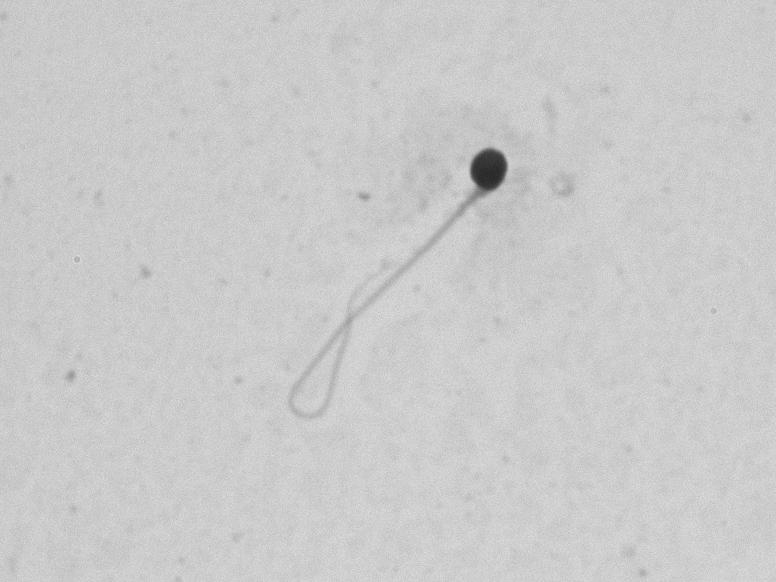Abnormal: (275, 108, 548, 452)
